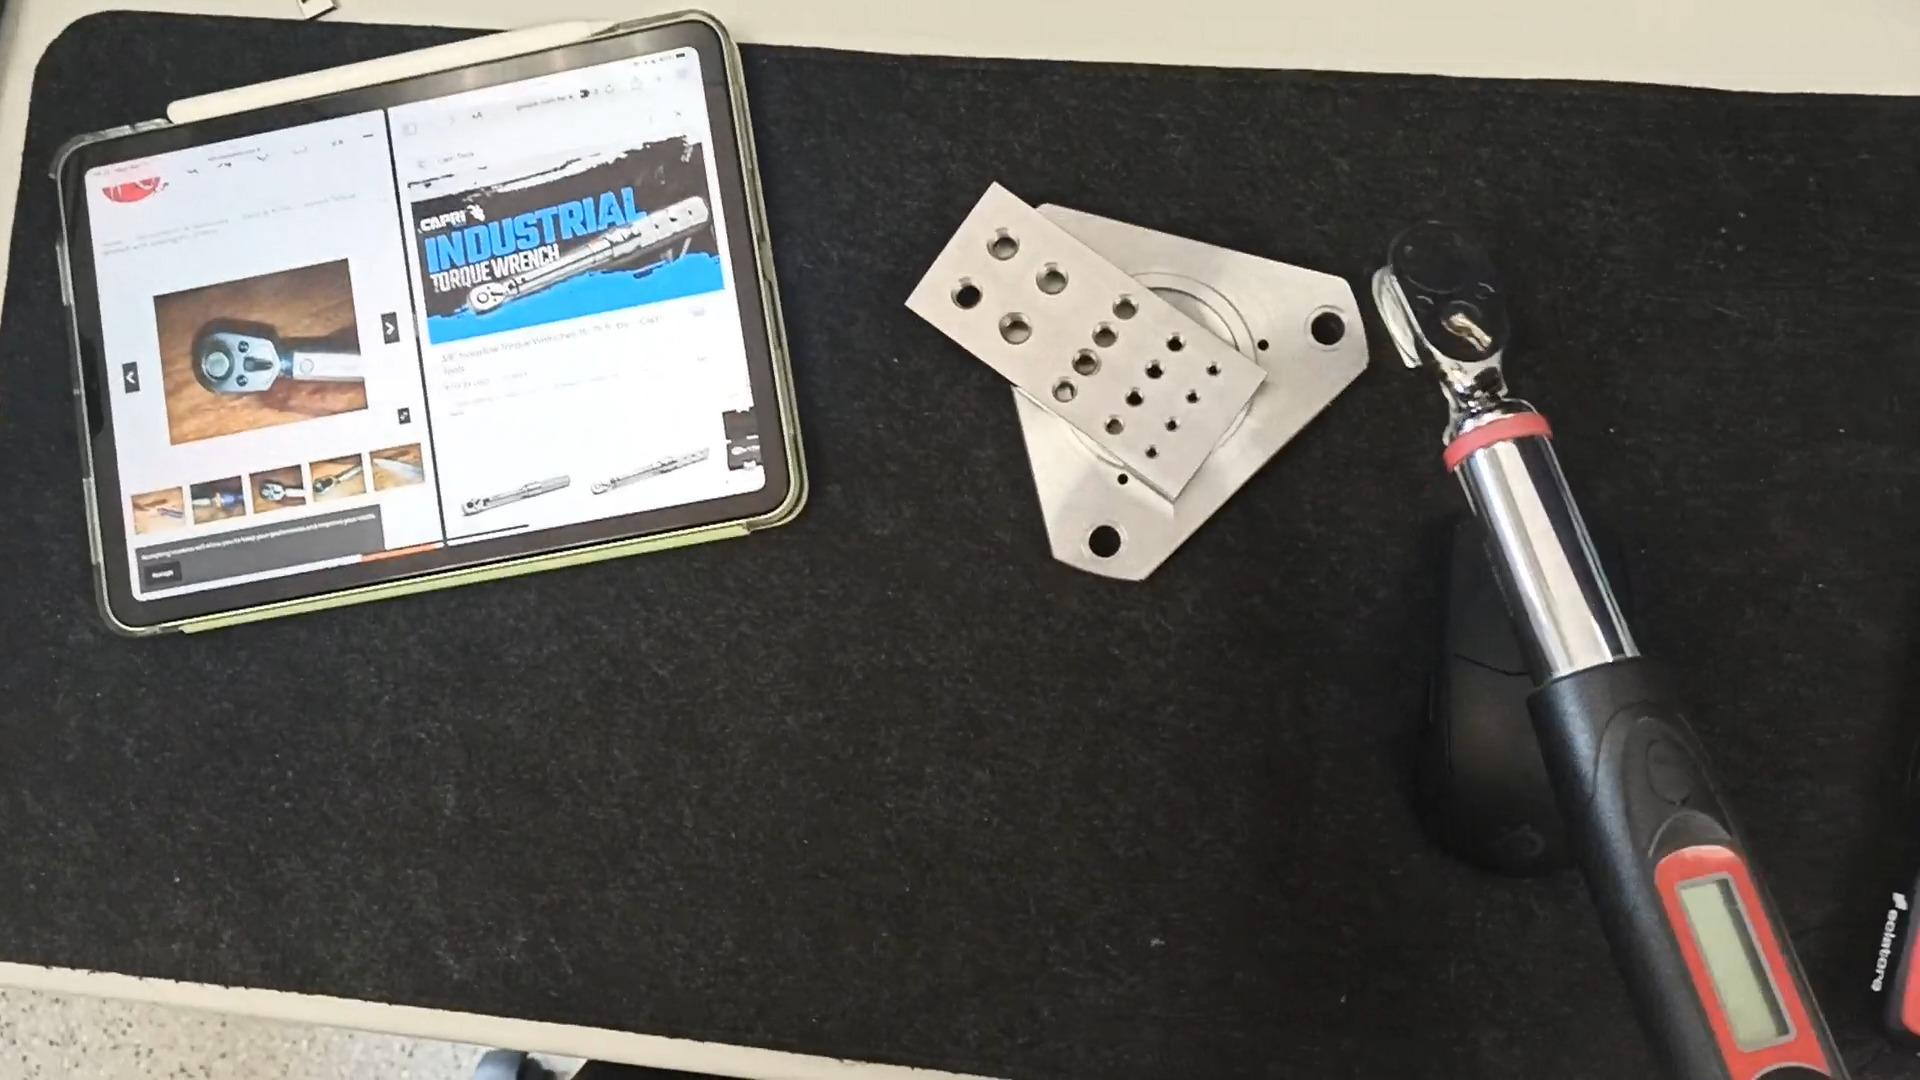Tool: (1374, 224, 1542, 417), (183, 320, 285, 402), (467, 281, 508, 313)
hole: (1067, 522, 1133, 564), (1303, 297, 1348, 359), (982, 311, 1039, 349), (1025, 264, 1084, 299), (968, 232, 1027, 268), (932, 278, 989, 315), (1100, 297, 1154, 328), (1065, 355, 1109, 382), (1035, 381, 1079, 407), (1084, 327, 1129, 352), (1093, 415, 1133, 438), (1114, 392, 1153, 414), (1135, 367, 1174, 388), (1158, 335, 1195, 356), (1201, 365, 1236, 385), (1180, 392, 1215, 410), (1141, 443, 1163, 468), (1155, 418, 1187, 435)
